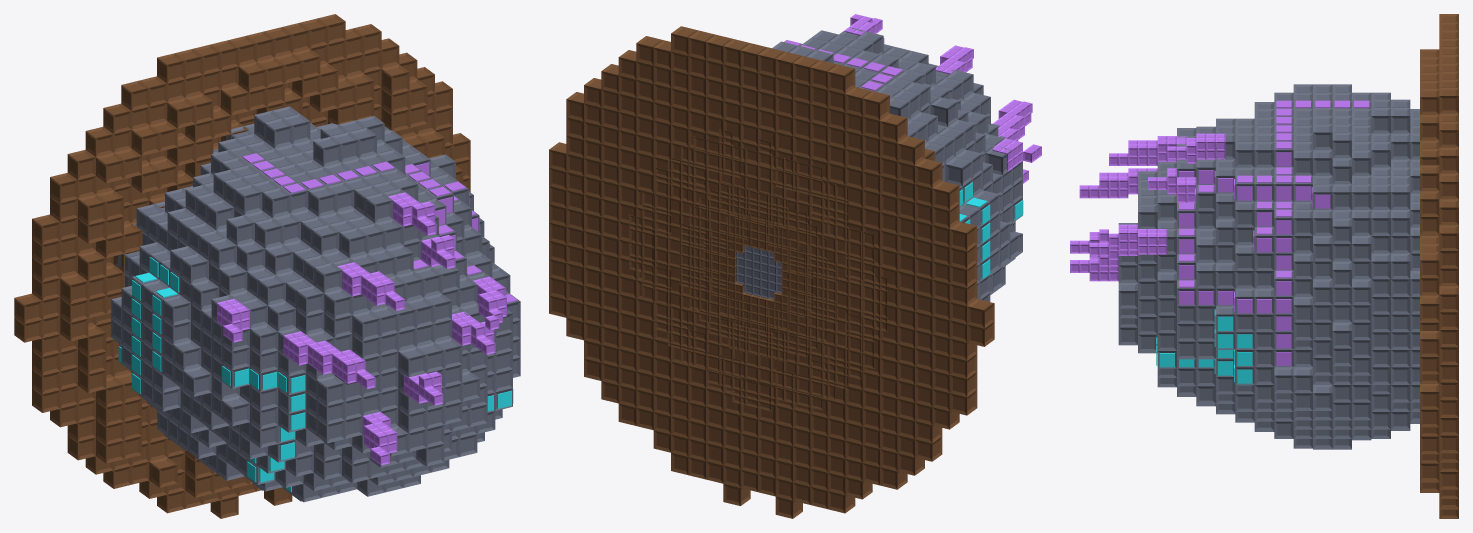
The model's file is Geodas_Zona1.fbx.
3 renders of one model, left to right at view 1: azimuth 30°, elevation 25°; view 2: azimuth 150°, elevation 25°; view 3: azimuth 270°, elevation 25°, orthographic. The views are drawn at different scales.
Parts seen in each view (by area): view 1: Roca.003, Base.003, Cristales.003, Grietas2.003, Grietas.003; view 2: Base.003, Base.002, Roca.003, Base.001, Base, Cristales.003, Roca, Grietas2.003, Grietas.003; view 3: Roca.003, Base.003, Grietas.003, Cristales.003, Grietas2.003.
Boxes of the visible parts, left/top/right/bottom form: Roca.003: left=111, top=106, right=520, bottom=502; Base.003: left=14, top=14, right=470, bottom=518; Cristales.003: left=217, top=192, right=506, bottom=465; Grietas2.003: left=112, top=257, right=513, bottom=491; Grietas.003: left=242, top=153, right=517, bottom=303; Base.003: left=549, top=26, right=994, bottom=518; Base.002: left=629, top=129, right=887, bottom=411; Roca.003: left=772, top=27, right=1022, bottom=301; Base.001: left=679, top=182, right=836, bottom=362; Base: left=703, top=210, right=813, bottom=334; Cristales.003: left=844, top=14, right=1041, bottom=183; Roca: left=736, top=245, right=781, bottom=299; Grietas2.003: left=959, top=182, right=1023, bottom=279; Grietas.003: left=785, top=40, right=902, bottom=90; Roca.003: left=1118, top=84, right=1419, bottom=449; Base.003: left=1420, top=14, right=1458, bottom=518; Grietas.003: left=1179, top=100, right=1369, bottom=365; Cristales.003: left=1070, top=133, right=1225, bottom=281; Grietas2.003: left=1156, top=309, right=1252, bottom=385.
Bounding box in the file's own units: 4.67 × 4.67 × 3.73.
